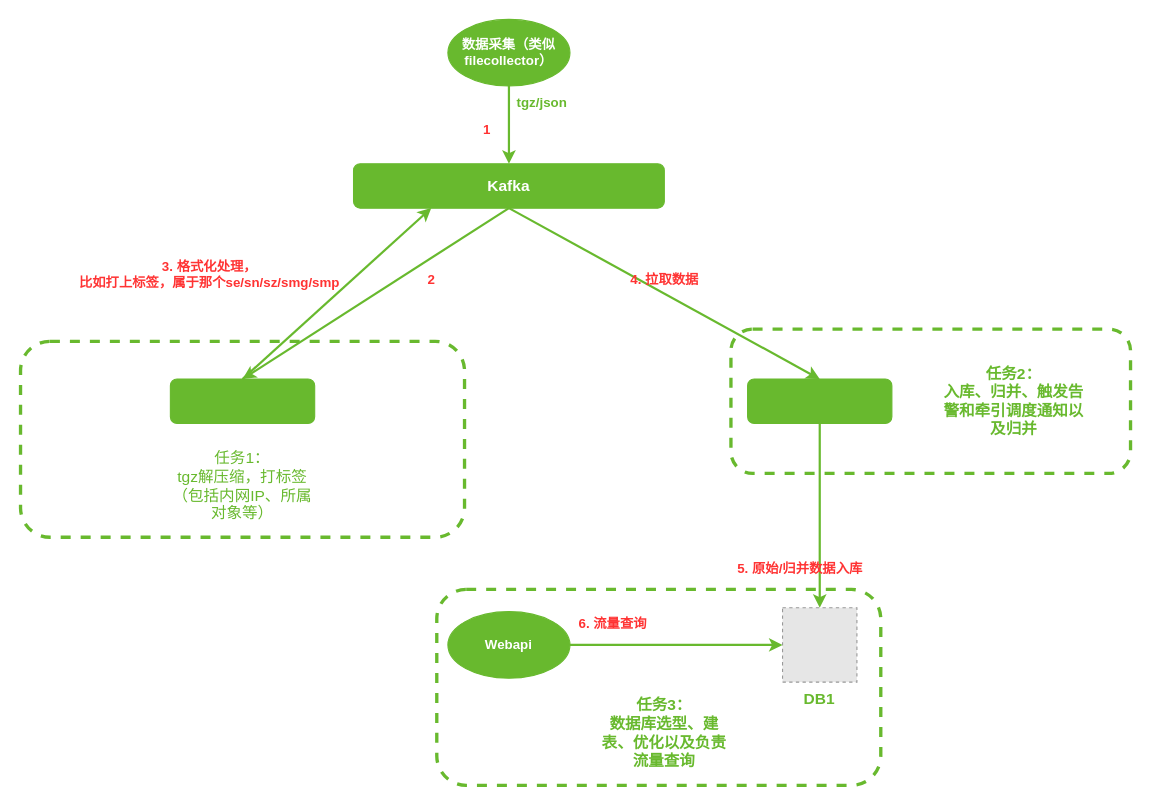
Some shapes in this 1151 by 806 pixel diagram are drawn without their labels. Grey dashed boxes stand in for pictures. Here are the shapes that lost their labels. From the top down, the centre of each, then its label:
At pixel 242 400: "格式化处理 Spark/Fink?".
At pixel 819 400: "归并，或者加入库？ Fink?".
